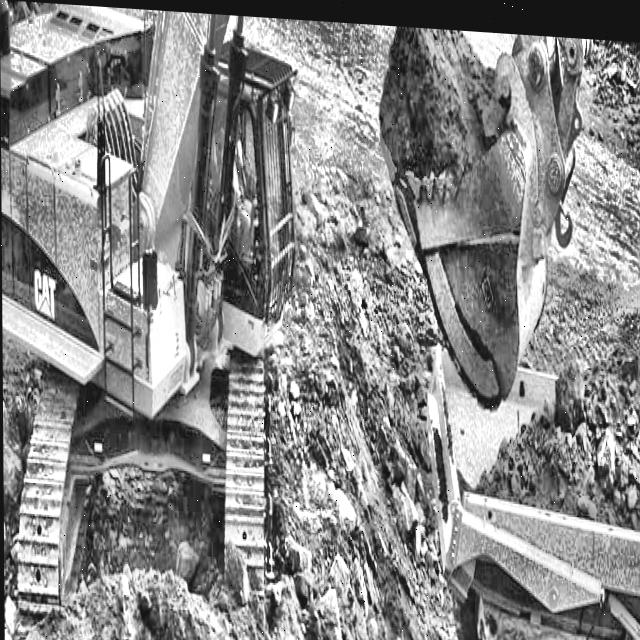dump_truck: (415, 269, 640, 640)
excavator: (1, 0, 590, 640)
